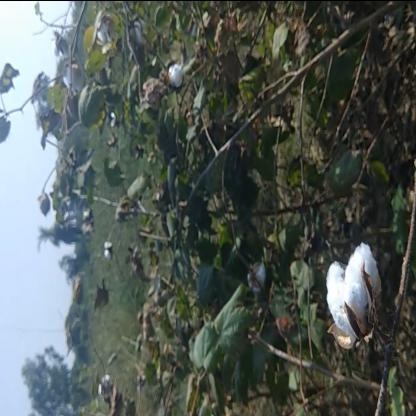cotton_ready: (322, 236, 388, 363)
